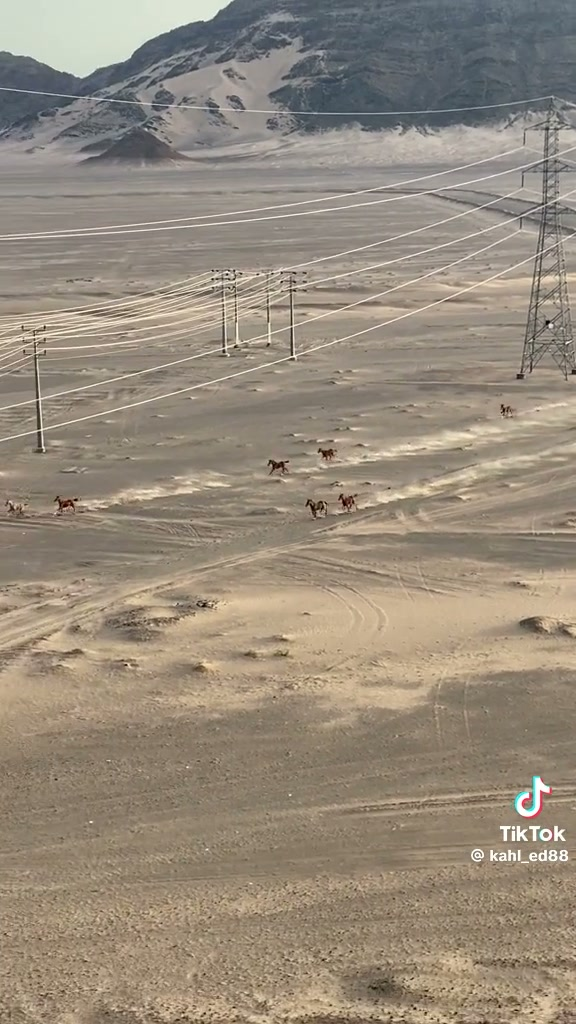animal: (54, 496, 79, 513), (305, 499, 327, 518), (338, 493, 356, 511), (267, 459, 288, 474), (5, 499, 23, 514), (318, 447, 336, 460), (500, 404, 515, 417)
vehicle_track: (0, 493, 414, 649), (0, 520, 346, 650), (283, 555, 388, 674), (323, 791, 515, 815)
